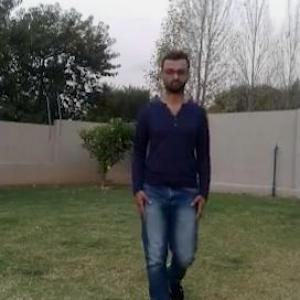follow: (131, 47, 210, 299)
